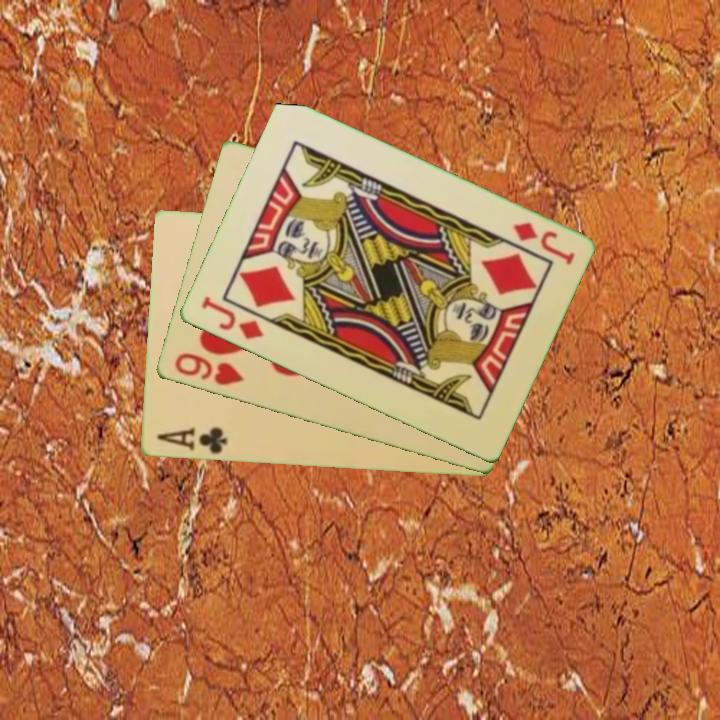9h: (170, 349, 246, 389)
Ac: (153, 423, 229, 458)
Jd: (197, 292, 266, 343), (509, 218, 577, 268)
